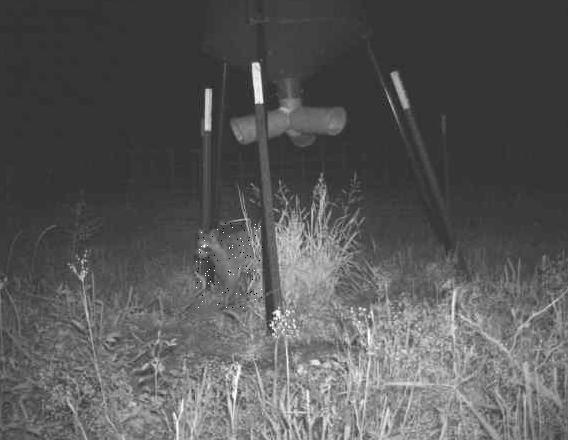Raccoon: (196, 223, 265, 308)
